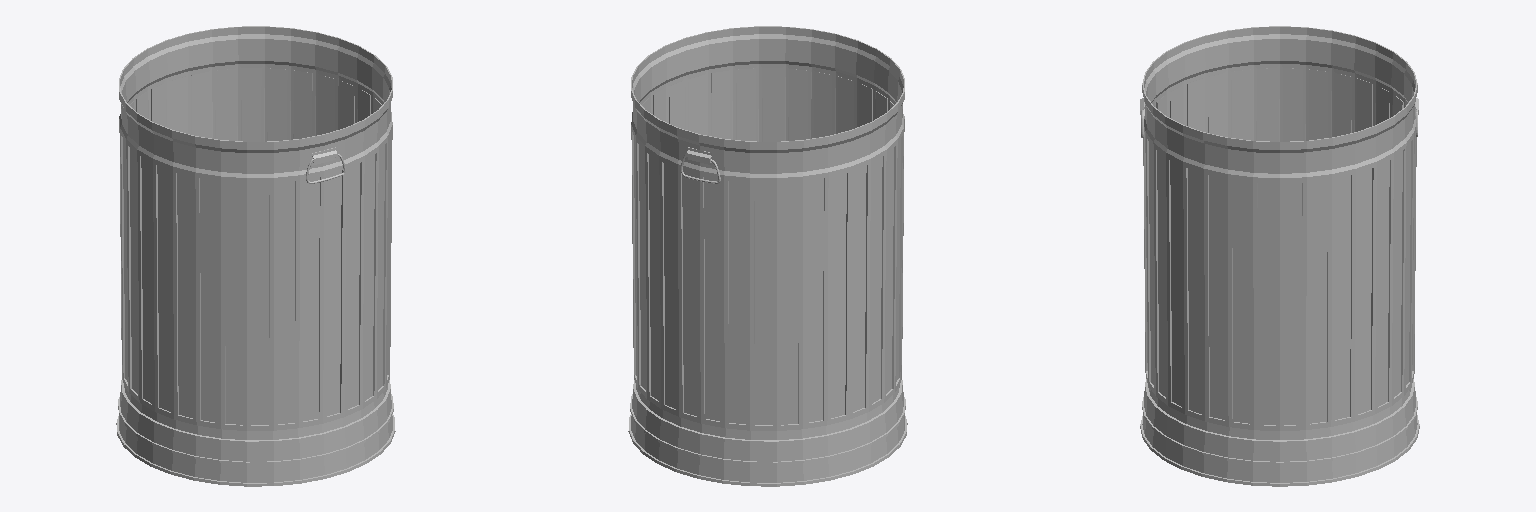
The model's file is JustCan.obj.
The picture shows the model from 3 angles: view 1: azimuth 30°, elevation 25°; view 2: azimuth 150°, elevation 25°; view 3: azimuth 270°, elevation 25°; orthographic projection.
Visible parts, largest first — view 1: Cylinder.000_Cylinder.006; view 2: Cylinder.000_Cylinder.006; view 3: Cylinder.000_Cylinder.006.
Boxes of the visible parts, x1,y1,x2,y2 form: Cylinder.000_Cylinder.006: [116, 26, 395, 486]; Cylinder.000_Cylinder.006: [628, 26, 907, 486]; Cylinder.000_Cylinder.006: [1140, 26, 1419, 486].
Size of the model in its own units: 1.91 by 2.59 by 1.91.